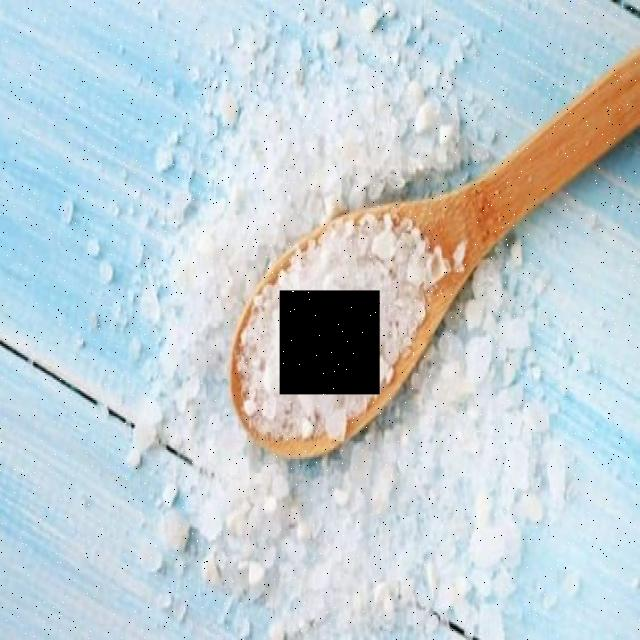Salt: (280, 291, 380, 395)
